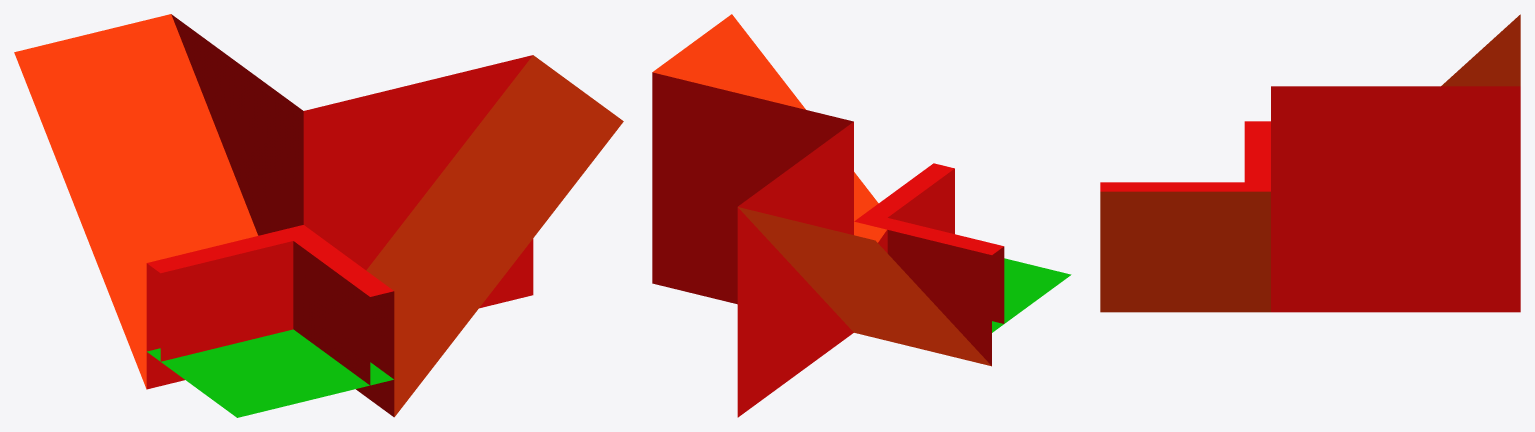
3 views of the same model, side by side, from view 1: azimuth 30°, elevation 25°; view 2: azimuth 150°, elevation 25°; view 3: azimuth 270°, elevation 25° (orthographic). The views are drawn at different scales.
Parts seen in each view (by area): view 1: None_A_S_A_E_S_W_E_E_None; view 2: None_A_S_A_E_S_W_E_E_None; view 3: None_A_S_A_E_S_W_E_E_None.
Boxes of the visible parts, x1,y1,x2,y2 form: None_A_S_A_E_S_W_E_E_None: (14,14,623,417); None_A_S_A_E_S_W_E_E_None: (652,14,1071,417); None_A_S_A_E_S_W_E_E_None: (1100,14,1520,312).
Bounding box in the file's own units: 100 × 59.38 × 100.
